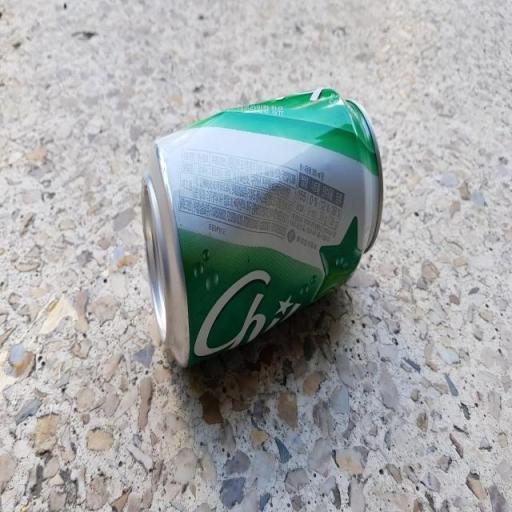metal: (122, 76, 408, 418)
